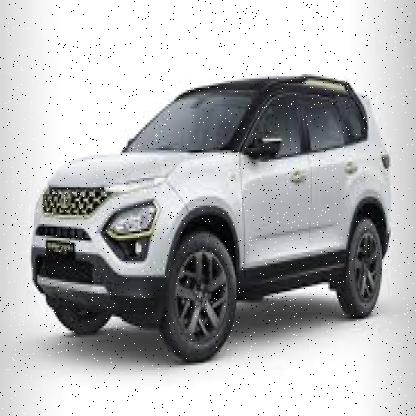car: (19, 67, 399, 372)
